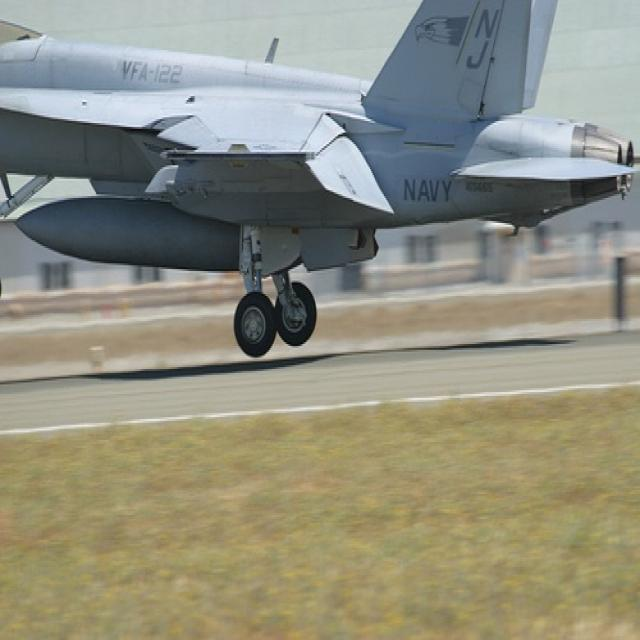aeroplane: (1, 0, 635, 356)
